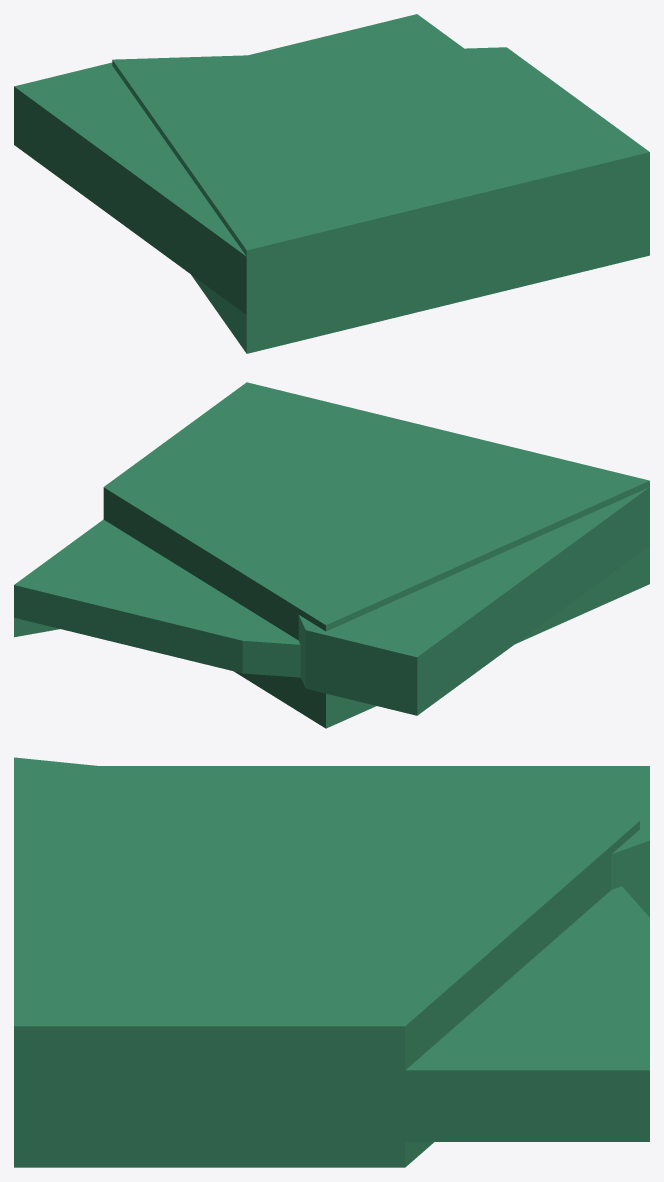
The model's file is stisland.glb.
The picture shows the model from 3 angles, top to bottom: view 1: azimuth 30°, elevation 25°; view 2: azimuth 150°, elevation 25°; view 3: azimuth 270°, elevation 25°; orthographic projection. The views are drawn at different scales.
Parts seen in each view (by area): view 1: Mesh_Mesh_head_geo.001_lambert2SG.001; view 2: Mesh_Mesh_head_geo.001_lambert2SG.001; view 3: Mesh_Mesh_head_geo.001_lambert2SG.001.
Part boxes in pixels (<box>): Mesh_Mesh_head_geo.001_lambert2SG.001: <box>14,14,649,353</box>; Mesh_Mesh_head_geo.001_lambert2SG.001: <box>14,382,649,728</box>; Mesh_Mesh_head_geo.001_lambert2SG.001: <box>14,757,649,1167</box>.
Bounding box in the file's own units: 1998 × 490 × 1998.
